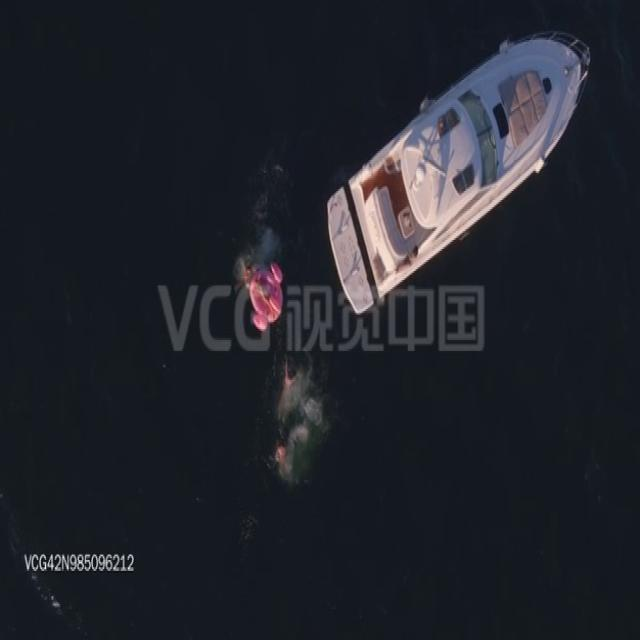houseboat: (326, 30, 592, 317)
